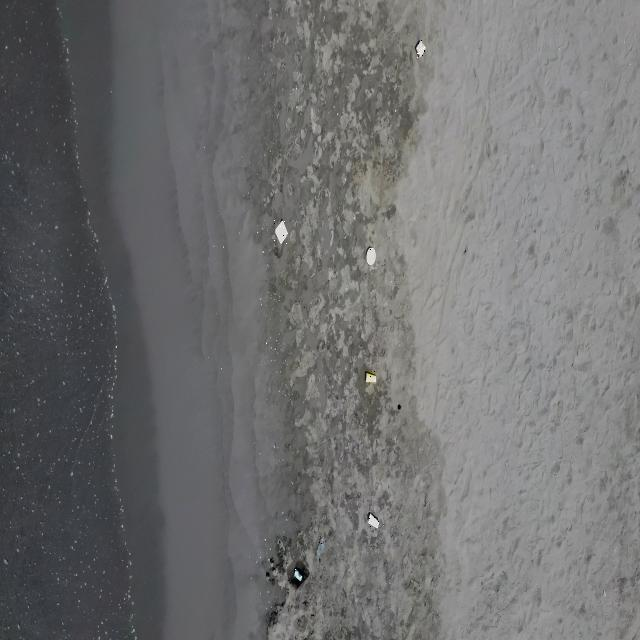take-away-containers: (274, 219, 288, 245), (366, 246, 376, 266), (416, 40, 426, 60)
takeaway-cup: (368, 512, 380, 530), (316, 538, 326, 556), (365, 371, 377, 384), (294, 568, 302, 583)
